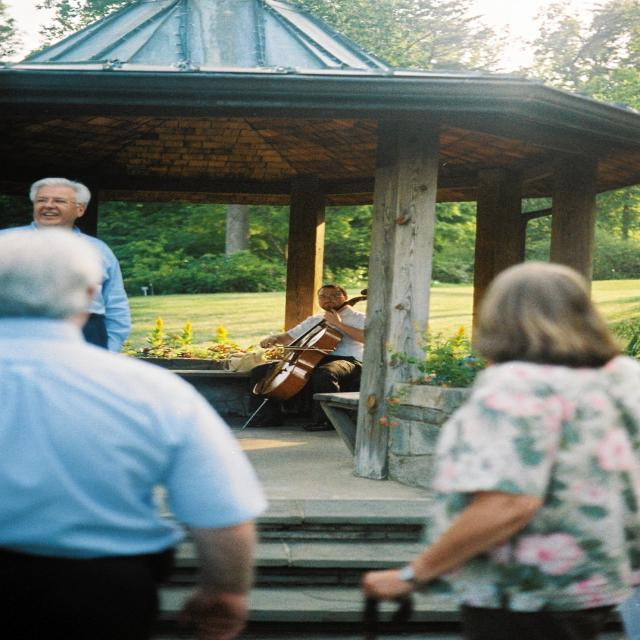cello: (243, 288, 370, 438)
